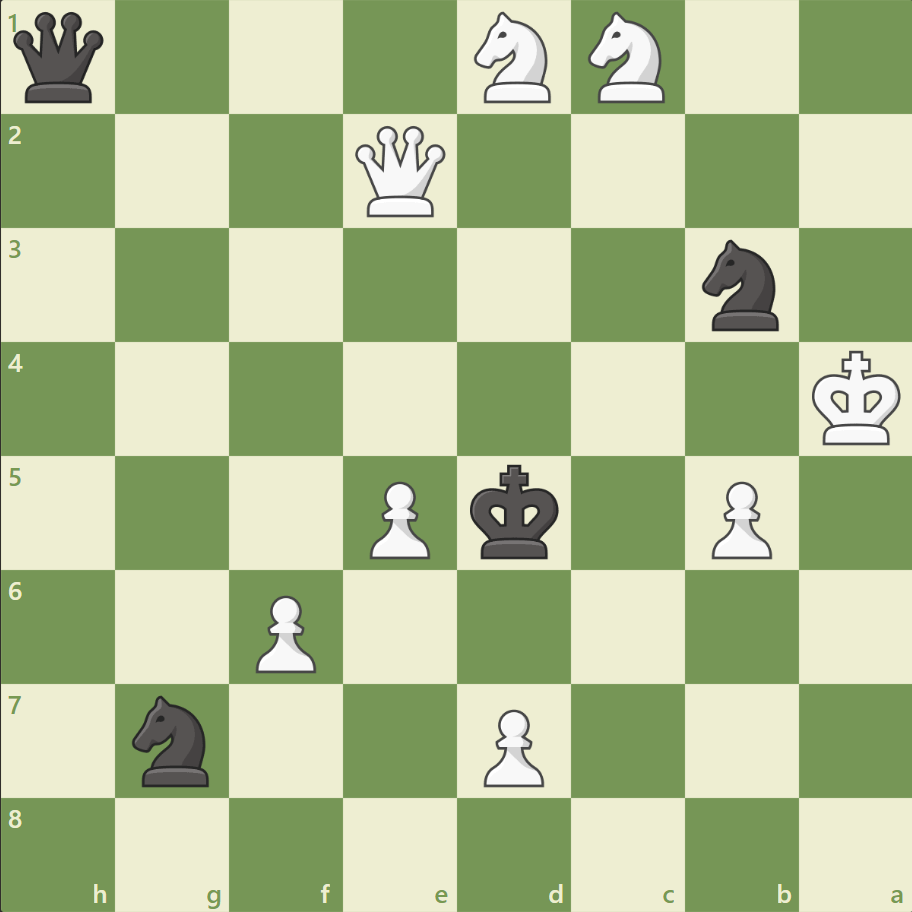K: (806, 344, 906, 452)
N: (579, 7, 676, 110), (465, 7, 562, 110)
P: (474, 700, 549, 791), (247, 586, 322, 677), (701, 473, 776, 564), (361, 473, 435, 564)
Q: (351, 122, 450, 222)
k: (465, 458, 565, 566)
n: (124, 688, 222, 791), (692, 234, 789, 337)
q: (10, 9, 109, 108)
